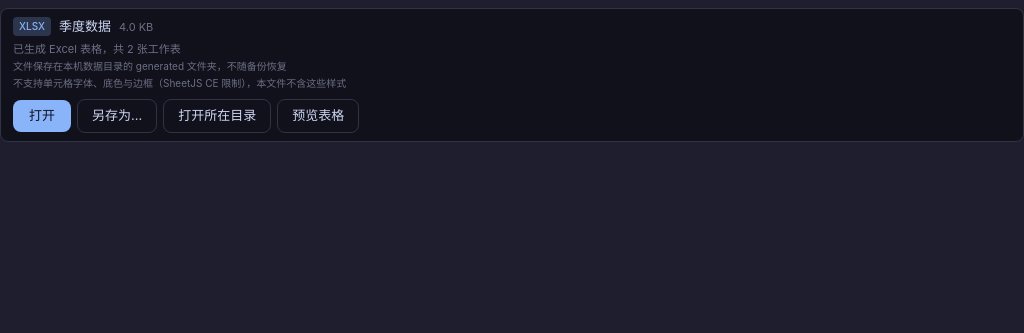
Test: XLSX 产物卡片 › 多工作表按表格渲染，并标明只读文本、不还原样式
Expected: the text "已生成 Excel 表格，共 2 张工作表" is shown, [13,42,181,56]
Expected: the text "不支持单元格字体、底色与边框（SheetJS CE 限制），本文件不含这些样式" is shown, [13,77,346,89]
What coordinates should you click on to do the following:
click the button "预览表格"
I would click on:
 (318, 116)
Its box is [277,99,359,132].
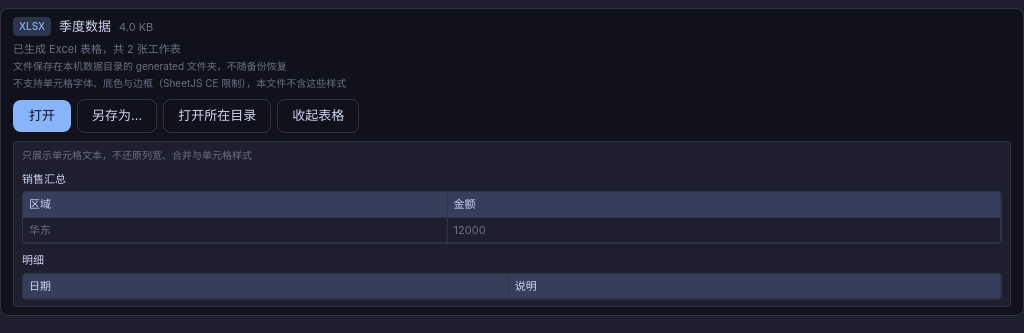
Expected: the text "销售汇总" is shown, [22,172,66,186]
Expected: the text "只展示单元格文本，不还原列宽、合并与单元格样式" is shown, [22,148,252,160]
Expected: the text "华东" is shown, [23,217,447,242]
